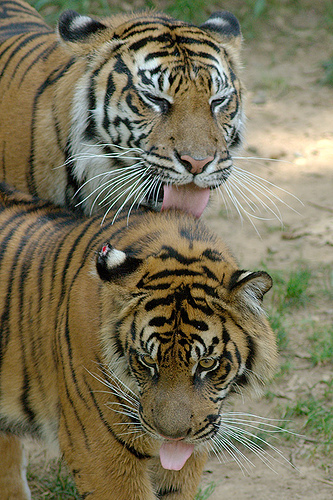Tigre: (7, 211, 274, 491), (6, 4, 248, 207)
